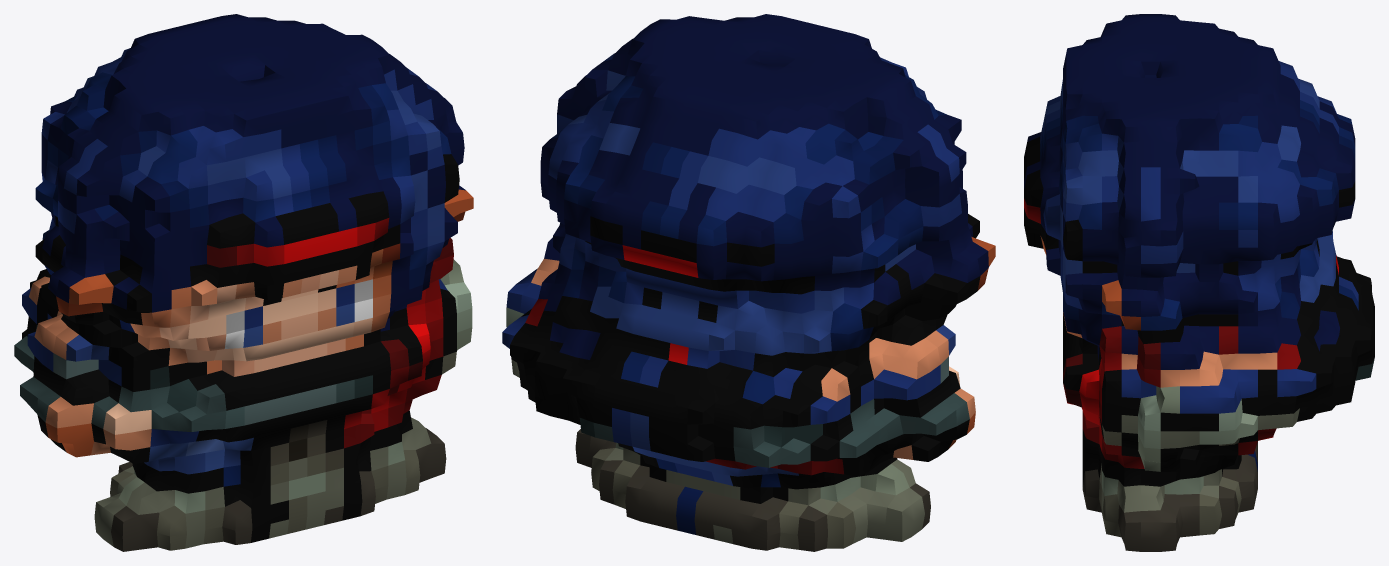
Rendered from Icon_101_02.obj.
3 renders of one model, left to right at view 1: azimuth 30°, elevation 25°; view 2: azimuth 150°, elevation 25°; view 3: azimuth 270°, elevation 25°, orthographic. The views are drawn at different scales.
Bounding box in the file's own units: 2.3 × 2.3 × 1.8.
